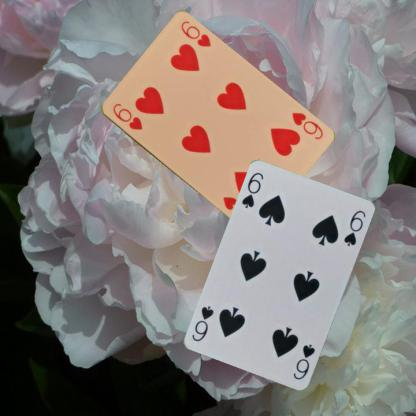6h: (289, 109, 324, 141), (110, 100, 143, 132)
6s: (290, 341, 316, 382), (239, 170, 265, 210)
